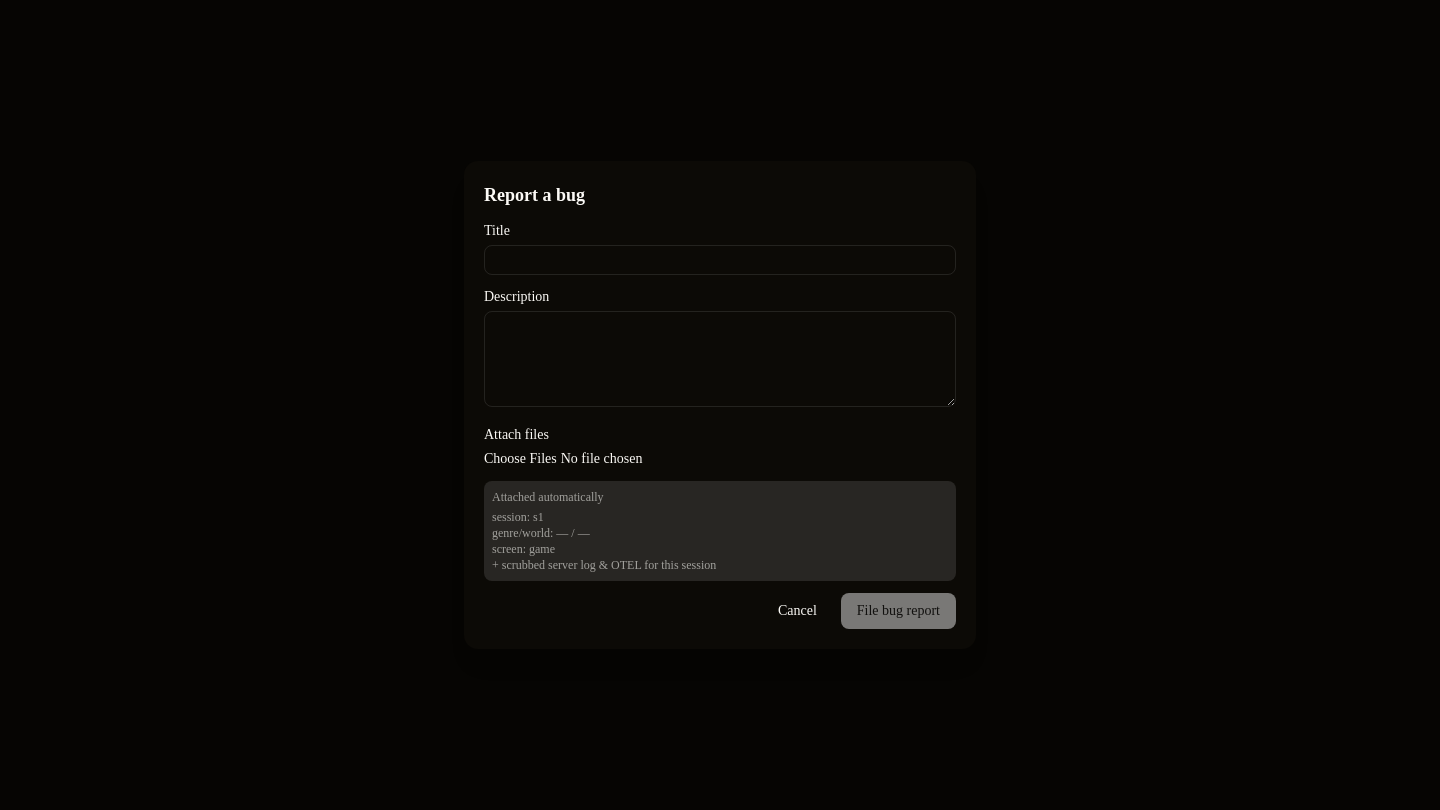
BugReportModal › disables submit until title and description are filled
The image size is (1440, 810).
expect the button "File bug report" is disabled: met, box x1=841 y1=593 x2=956 y2=629
Type "Broken dice" into the field labelled "Title".
click(720, 260); type("Broken dice")  # box x1=484 y1=245 x2=956 y2=275
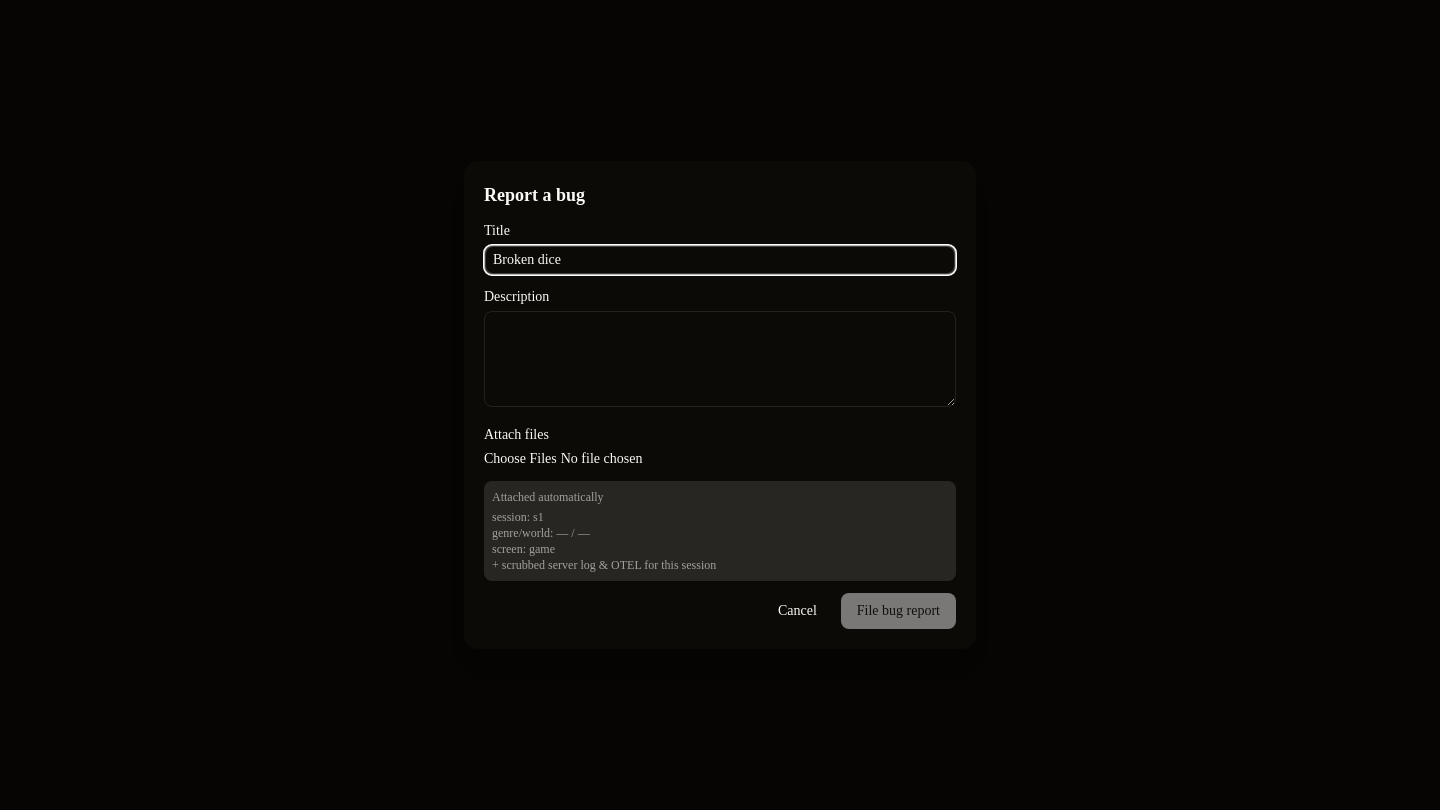
Type "Never settle" into the text box labelled "Description".
click(720, 359); type("Never settle")  # box x1=484 y1=311 x2=956 y2=407
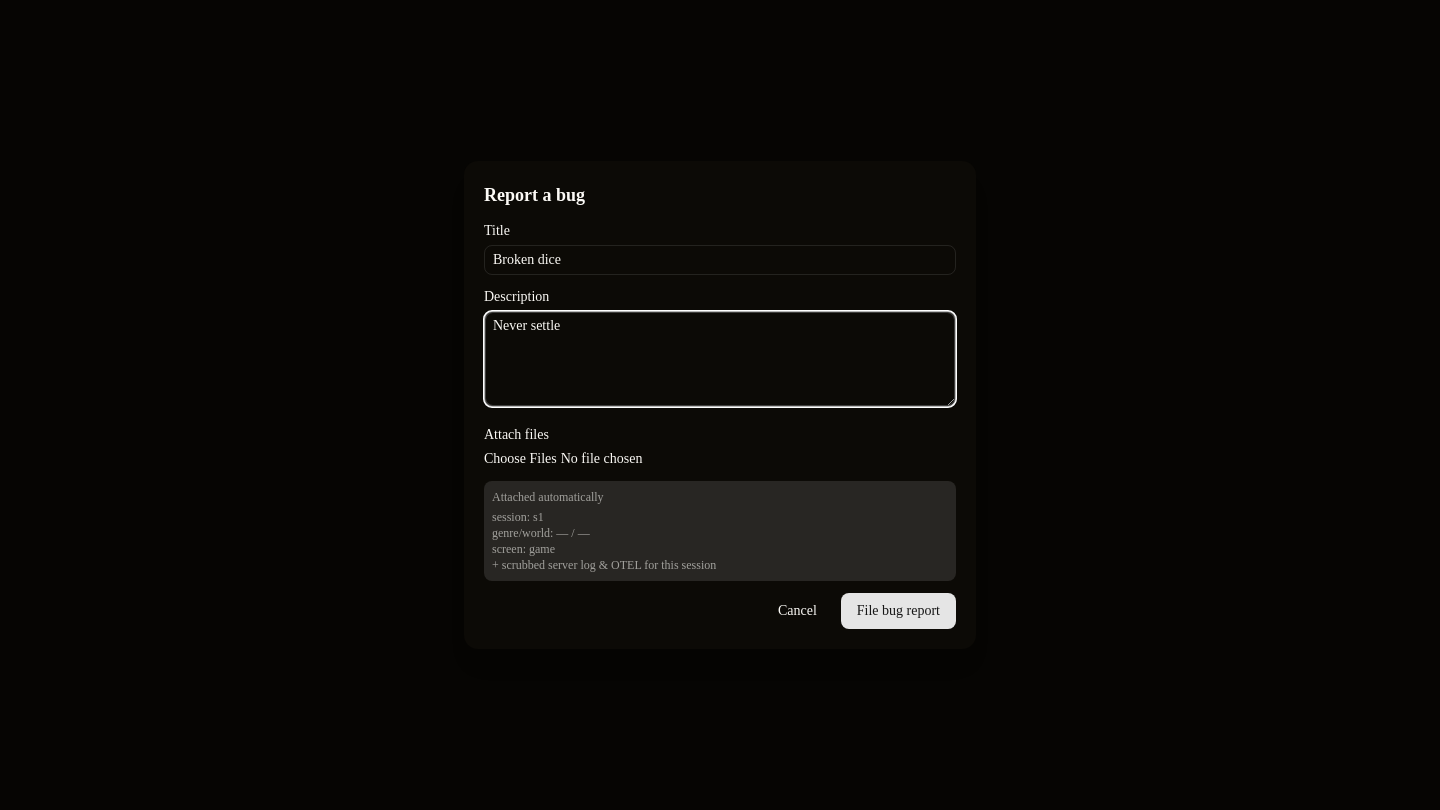
expect the button "File bug report" is enabled: met, box x1=841 y1=593 x2=956 y2=629
